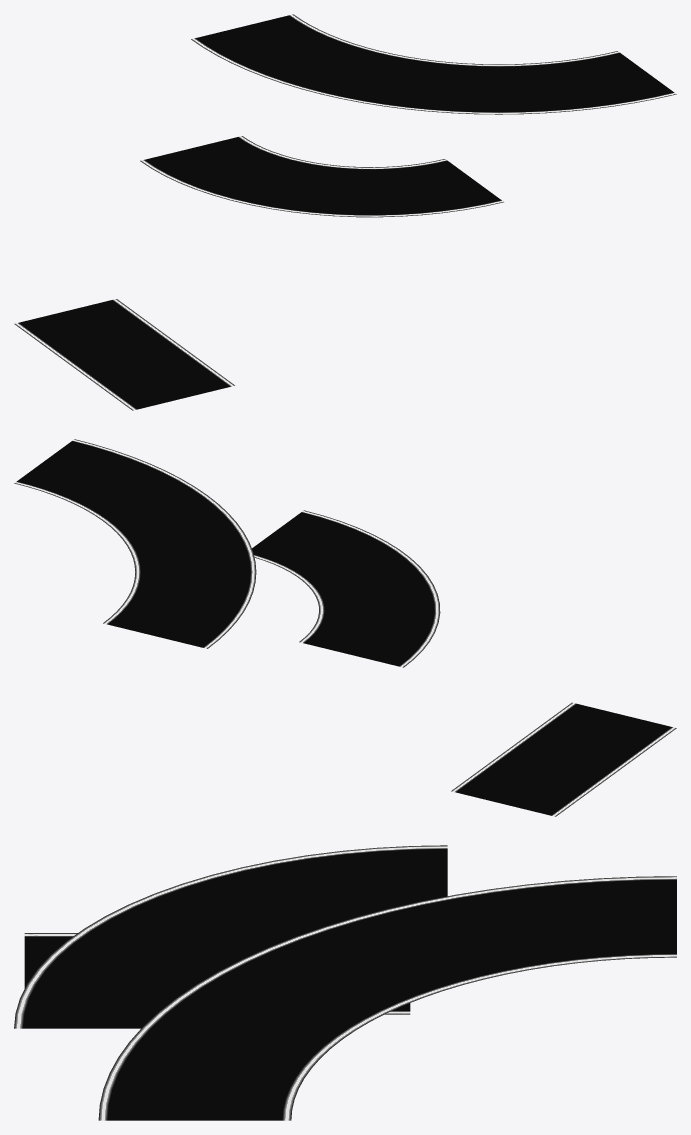
File: 40w Parts.FBX
3 views of the same model, one above another, from view 1: azimuth 30°, elevation 25°; view 2: azimuth 150°, elevation 25°; view 3: azimuth 270°, elevation 25° (orthographic). The views are drawn at different scales.
Visible parts, largest first — view 1: 40W 120R 90°, 40W 90R 90°, 40W 80M; view 2: 40W 120R 90°, 40W 90R 90°, 40W 80M; view 3: 40W 120R 90°, 40W 90R 90°, 40W 80M.
Boxes of the visible parts, bbox=[...] form: 40W 120R 90°: bbox=[191, 14, 676, 114]; 40W 90R 90°: bbox=[140, 136, 503, 217]; 40W 80M: bbox=[14, 299, 234, 410]; 40W 120R 90°: bbox=[14, 439, 256, 648]; 40W 90R 90°: bbox=[252, 510, 440, 667]; 40W 80M: bbox=[451, 702, 676, 816]; 40W 120R 90°: bbox=[98, 876, 676, 1120]; 40W 90R 90°: bbox=[14, 845, 447, 1028]; 40W 80M: bbox=[24, 933, 410, 1014].
Size of the model in its own units: 221 by 60 by 138.
